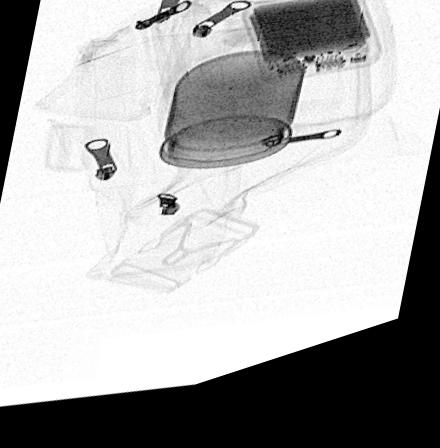Powerbank: (240, 11, 383, 101)
